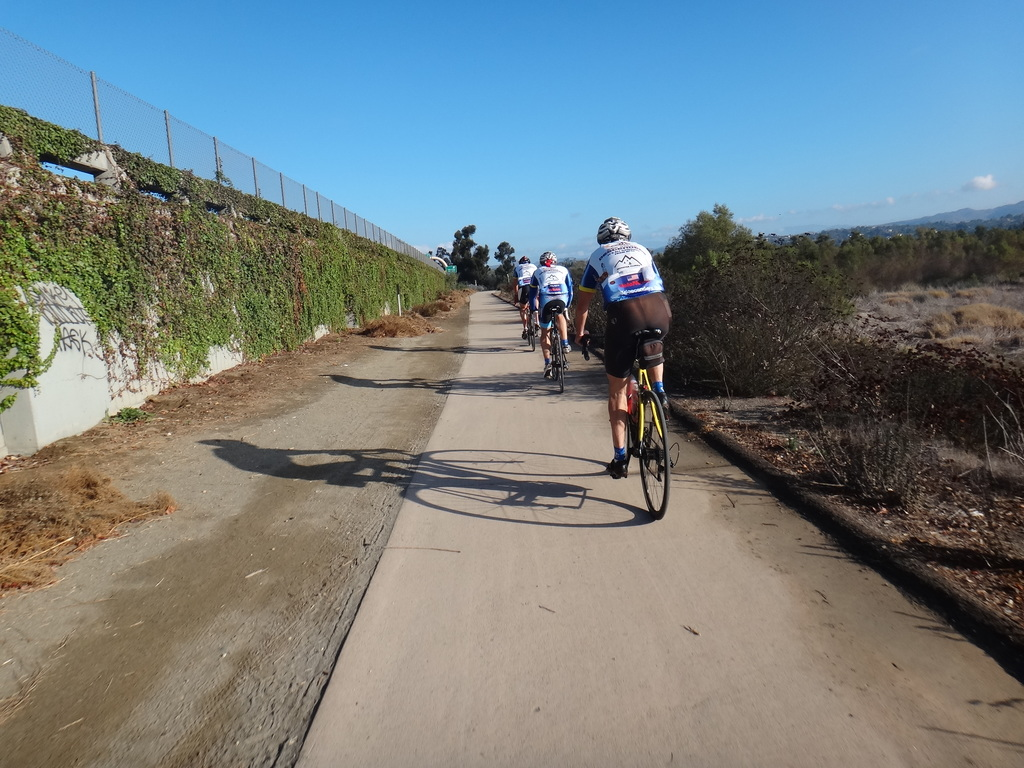Bicycle: (574, 323, 684, 508), (537, 300, 573, 406), (512, 298, 536, 351)
